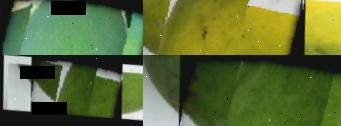PartiallyRipe: (143, 0, 308, 55)
Unripe: (174, 55, 341, 126), (0, 0, 143, 55), (29, 55, 123, 122)
